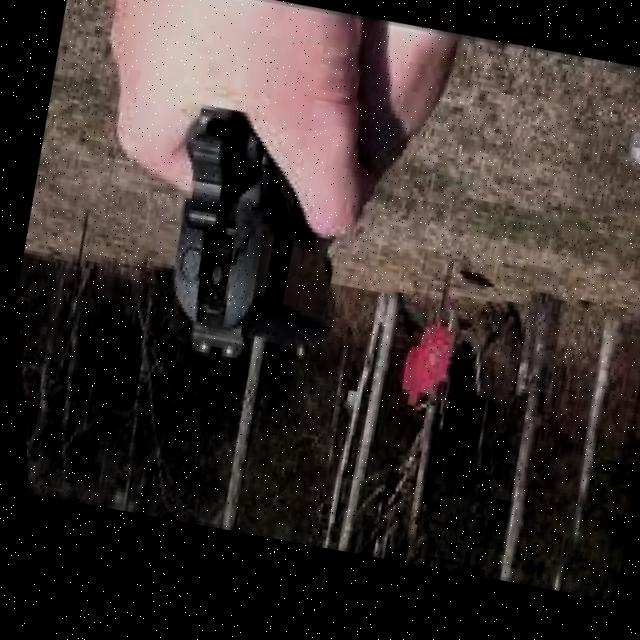pistol: (128, 93, 377, 394)
